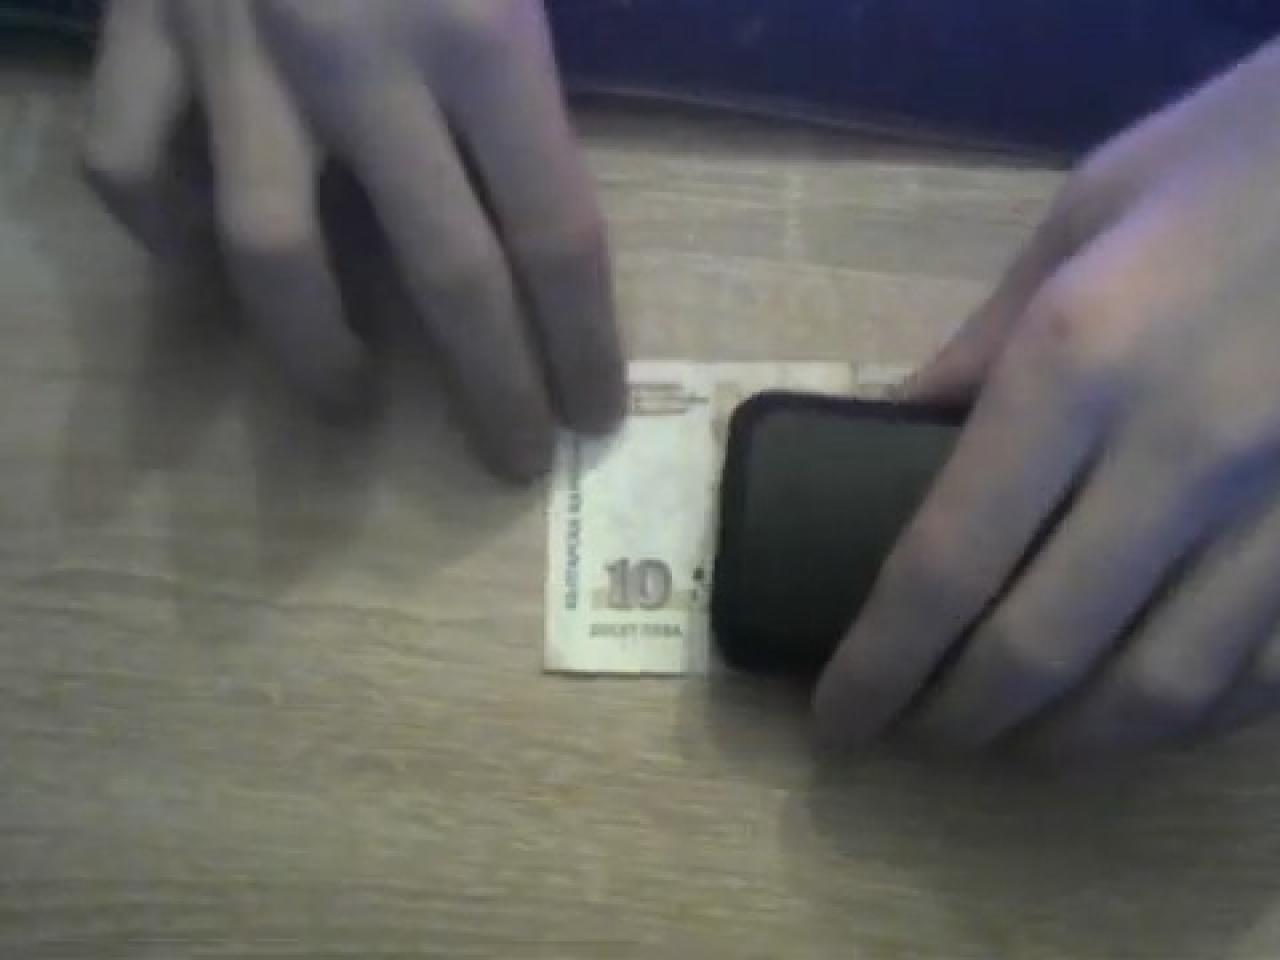10leva: (541, 312, 864, 680)
